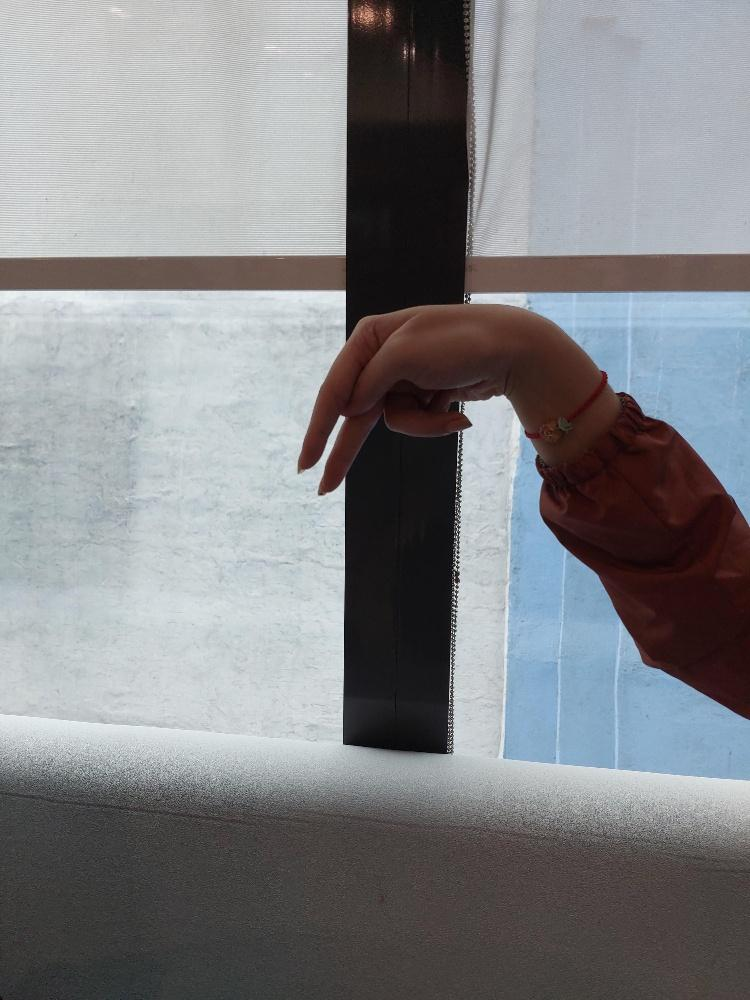p: (296, 296, 519, 496)
